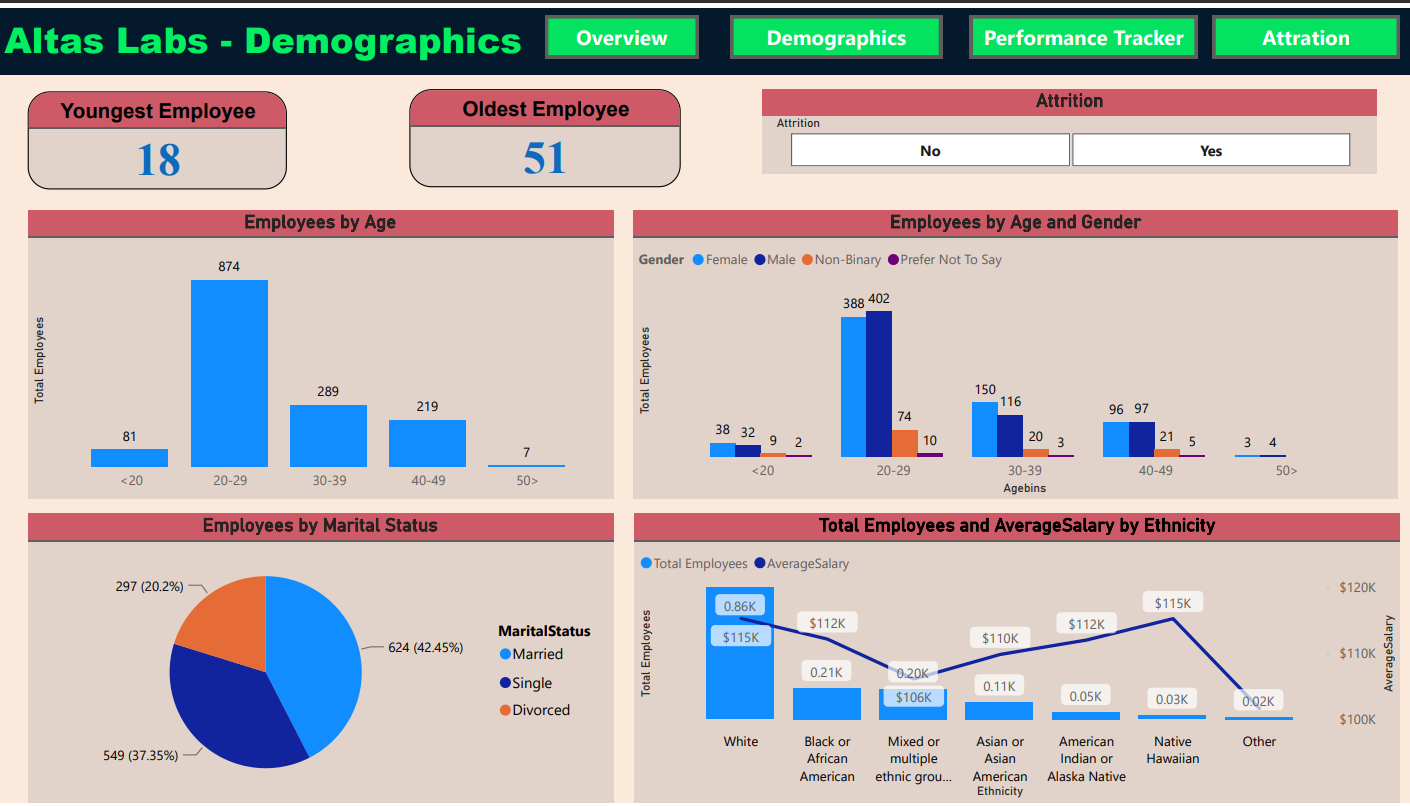

What the dashboard file says about the page in this screenshot:
{"tool":"powerbi","page":{"name":"Demographics","canvas":[1280,720],"ordinal":1},"visuals":[{"type":"card","title":"Youngest Employee","fields":{"Values":["Min(DimEmployee.Age)"]},"box":[25.7,74.6,234.7,89.2],"z":0},{"type":"card","title":"Oldest Employee","fields":{"Values":["Max(DimEmployee.Age)"]},"box":[371.6,73.3,245.7,89.2],"z":1000},{"type":"clusteredColumnChart","title":"Employees by Age","fields":{"Y":["_Measures.Total Employees"],"Category":["DimEmployee.Agebins"]},"box":[25.7,183.4,530.5,261.6],"z":2000},{"type":"clusteredColumnChart","title":"Employees by Age and Gender","fields":{"Y":["_Measures.Total Employees"],"Category":["DimEmployee.Agebins"],"Series":["DimEmployee.Gender"]},"box":[574.5,183.4,693.1,261.6],"z":3000},{"type":"slicer","title":"Attrition","fields":{"Values":["DimEmployee.Attrition"]},"box":[691.9,73.3,557.4,77],"z":4000},{"type":"pieChart","title":"Employees by Marital Status","fields":{"Category":["DimEmployee.MaritalStatus"],"Y":["_Measures.Total Employees"]},"box":[25.7,458.4,530.5,261.6],"z":5000},{"type":"lineStackedColumnComboChart","fields":{"Category":["DimEmployee.Ethnicity"],"Y":["_Measures.Total Employees"],"Y2":["_Measures.AverageSalary"]},"box":[575.8,458.4,694.3,261.6],"z":6000},{"type":"textbox","box":[0,0,1279.9,59.9],"z":7000},{"type":"actionButton","box":[495.1,6.1,139.4,39.1],"z":8000},{"type":"actionButton","box":[662.5,6.1,191.9,39.1],"z":9000},{"type":"actionButton","box":[880.1,6.1,206.6,39.1],"z":10000},{"type":"actionButton","box":[1100.2,6.1,169.9,39.1],"z":11000}]}

Visuals, with their boxes in screenshot pixels (x1, y1, x2, y2), scaled from the page's 1280x720 canvas onto the 1410x806 screenshot:
"Youngest Employee" card: (left=28, top=84, right=287, bottom=183)
"Oldest Employee" card: (left=409, top=82, right=680, bottom=182)
"Employees by Age" clusteredColumnChart: (left=28, top=205, right=613, bottom=498)
"Employees by Age and Gender" clusteredColumnChart: (left=633, top=205, right=1396, bottom=498)
"Attrition" slicer: (left=762, top=82, right=1376, bottom=168)
"Employees by Marital Status" pieChart: (left=28, top=513, right=613, bottom=805)
lineStackedColumnComboChart - DimEmployee.Ethnicity x _Measures.Total Employees: (left=634, top=513, right=1399, bottom=805)
textbox: (left=0, top=0, right=1409, bottom=67)
actionButton: (left=545, top=7, right=699, bottom=51)
actionButton: (left=730, top=7, right=941, bottom=51)
actionButton: (left=969, top=7, right=1197, bottom=51)
actionButton: (left=1212, top=7, right=1399, bottom=51)
